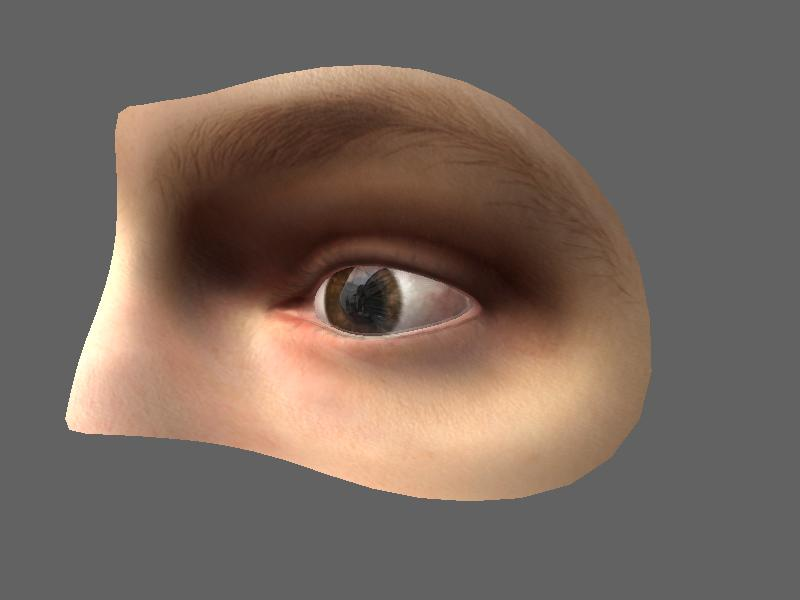iris: (316, 265, 404, 336)
